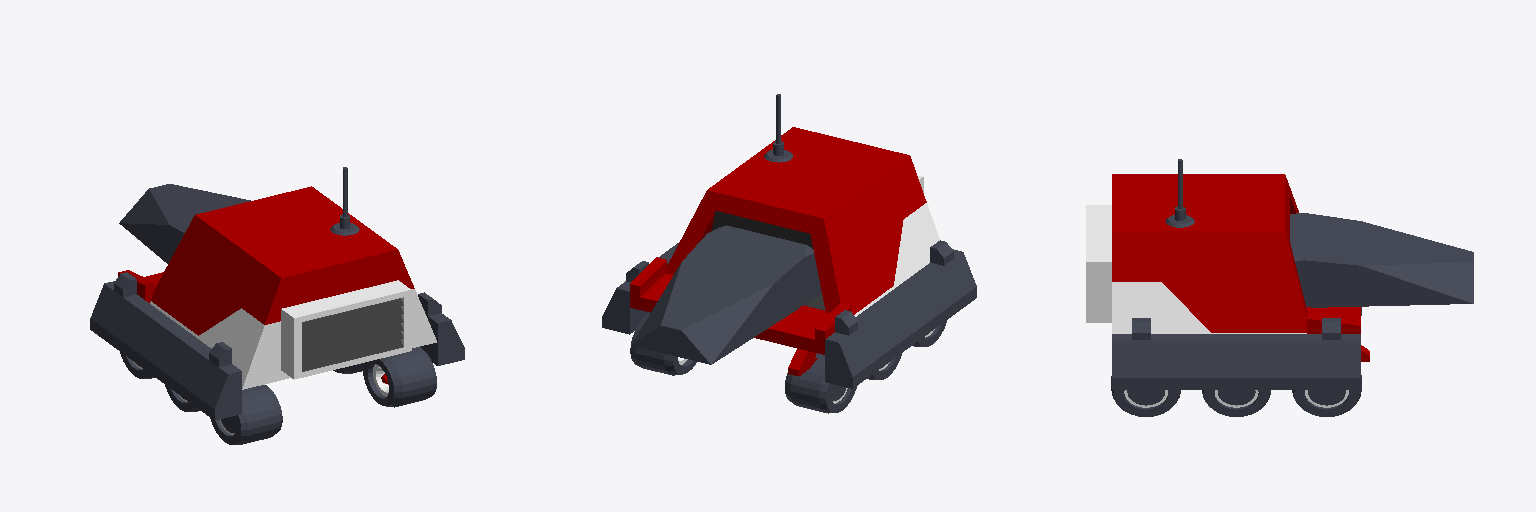
File: enemySpikeUnit.obj
3 renders of one model, left to right at view 1: azimuth 30°, elevation 25°; view 2: azimuth 150°, elevation 25°; view 3: azimuth 270°, elevation 25°, orthographic.
Size of the model in its own units: 1.28 by 1.12 by 1.72.